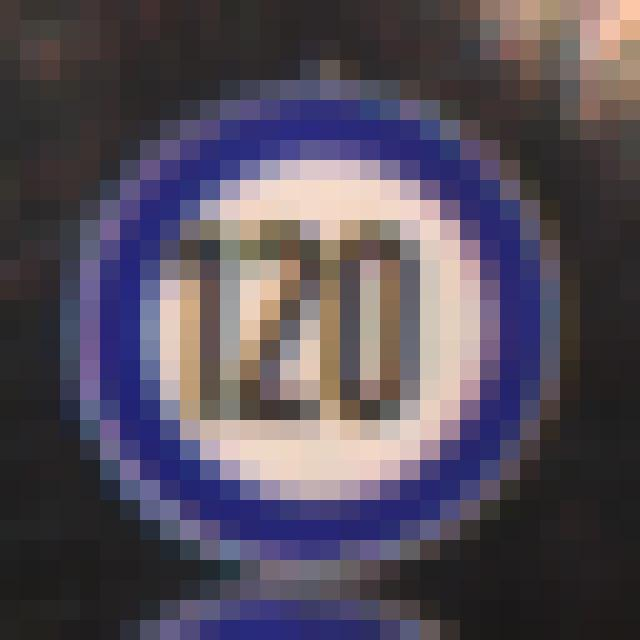SPEED LIMIT 120: (66, 99, 526, 554)
